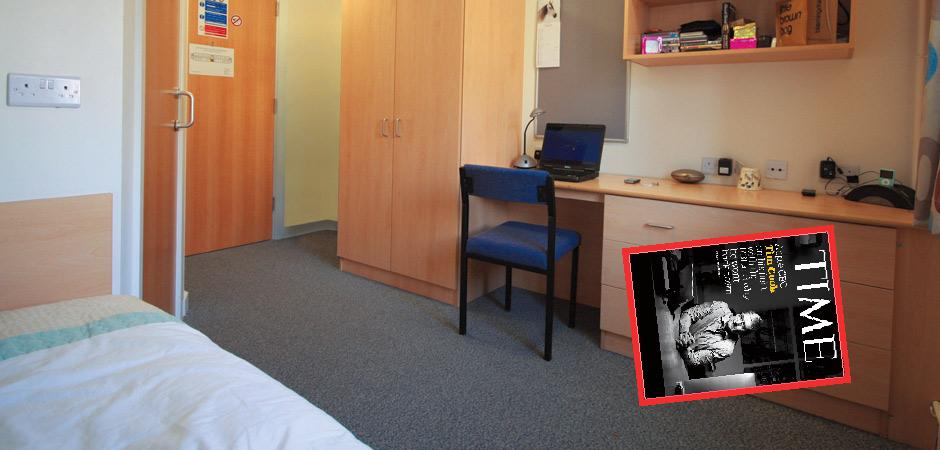times: (626, 219, 855, 411)
